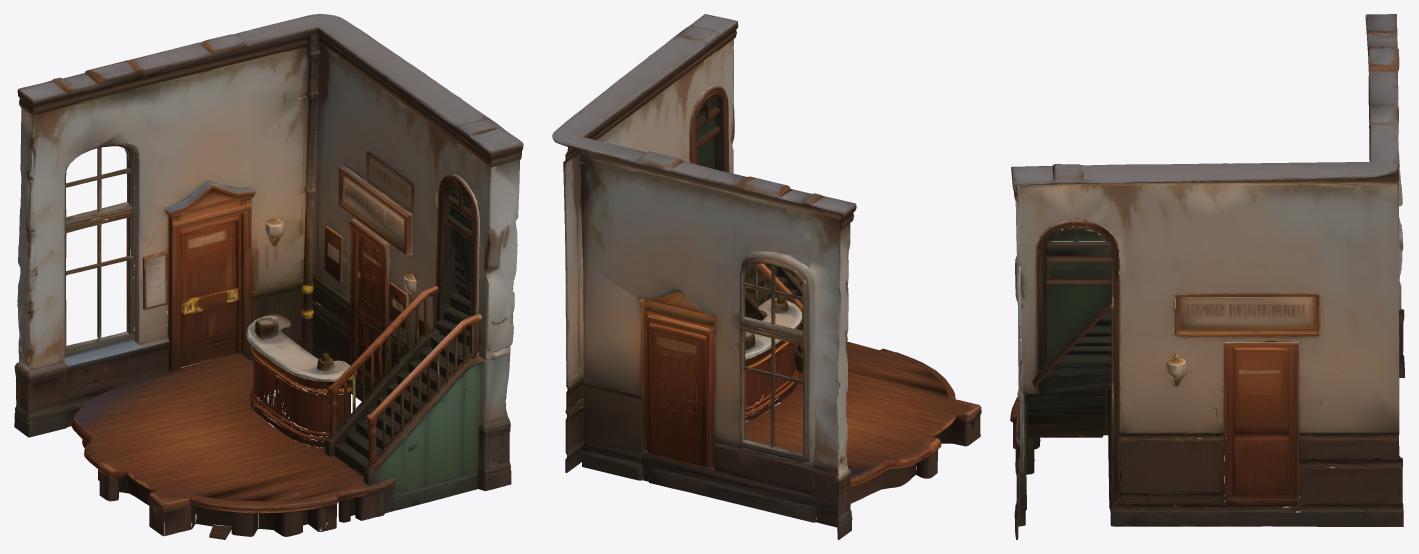
File: env-hotel-lobby-shell.glb
3 views of the same model, side by side, from view 1: azimuth 30°, elevation 25°; view 2: azimuth 150°, elevation 25°; view 3: azimuth 270°, elevation 25° (orthographic). The views are drawn at different scales.
Visible parts, largest first — view 1: env-hotel-lobby-shell; view 2: env-hotel-lobby-shell; view 3: env-hotel-lobby-shell.
Boxes of the visible parts, bbox=[...] form: env-hotel-lobby-shell: bbox=[14, 14, 523, 539]; env-hotel-lobby-shell: bbox=[552, 14, 981, 539]; env-hotel-lobby-shell: bbox=[1010, 14, 1404, 539].
Size of the model in its own units: 3.22 by 3.2 by 3.11.
1 material, 1 textured.
